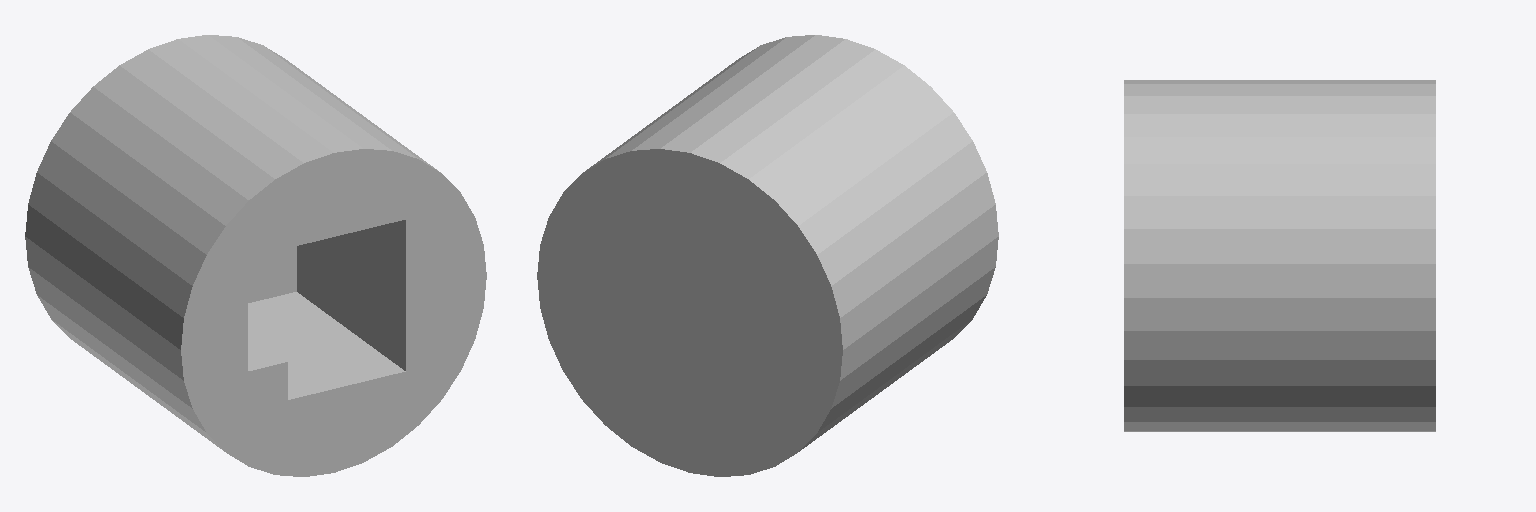
The model's file is square_leg.obj.
The picture shows the model from 3 angles: view 1: azimuth 30°, elevation 25°; view 2: azimuth 150°, elevation 25°; view 3: azimuth 270°, elevation 25°; orthographic projection.
Visible parts, largest first — view 1: slot_square_leg; view 2: slot_square_leg; view 3: slot_square_leg.
Part boxes in pixels (bbox=[...]): slot_square_leg: bbox=[25, 35, 486, 476]; slot_square_leg: bbox=[537, 35, 998, 476]; slot_square_leg: bbox=[1124, 80, 1435, 431].
Size of the model in its own units: 0.034 by 0.034 by 0.03.